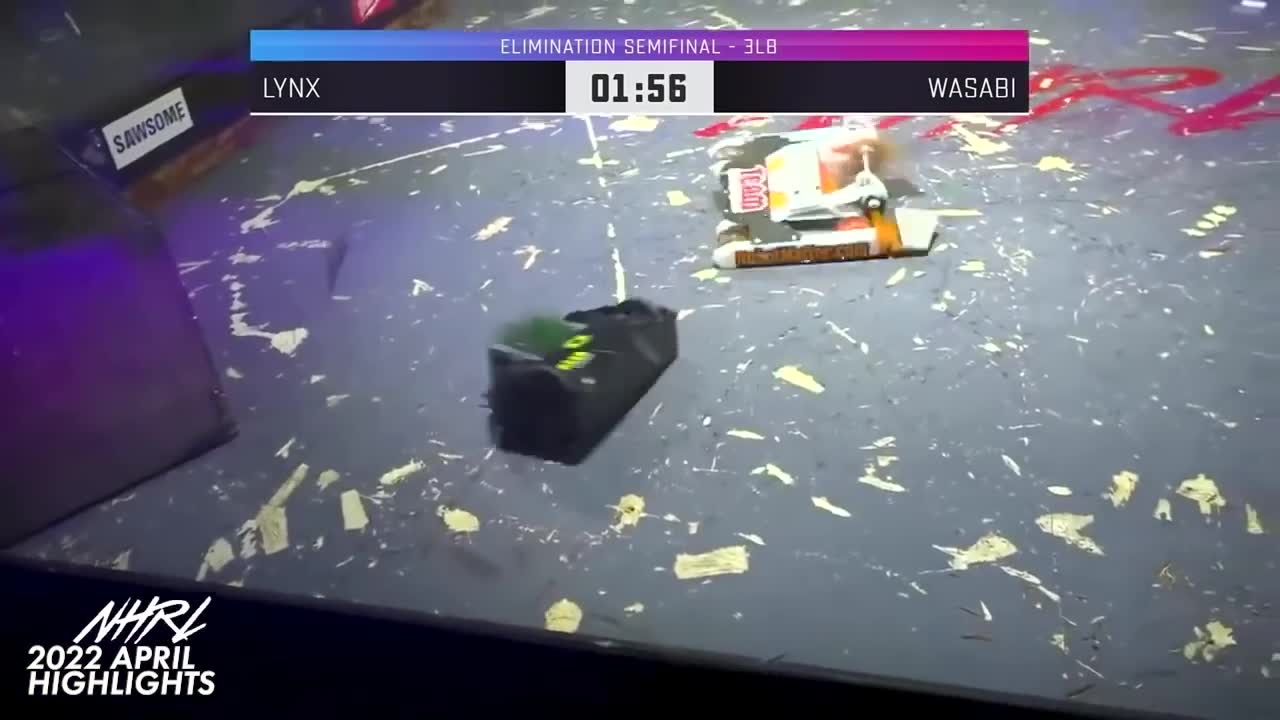combatbot: (486, 296, 679, 465), (709, 127, 938, 268)
housebot: (0, 124, 236, 557)
